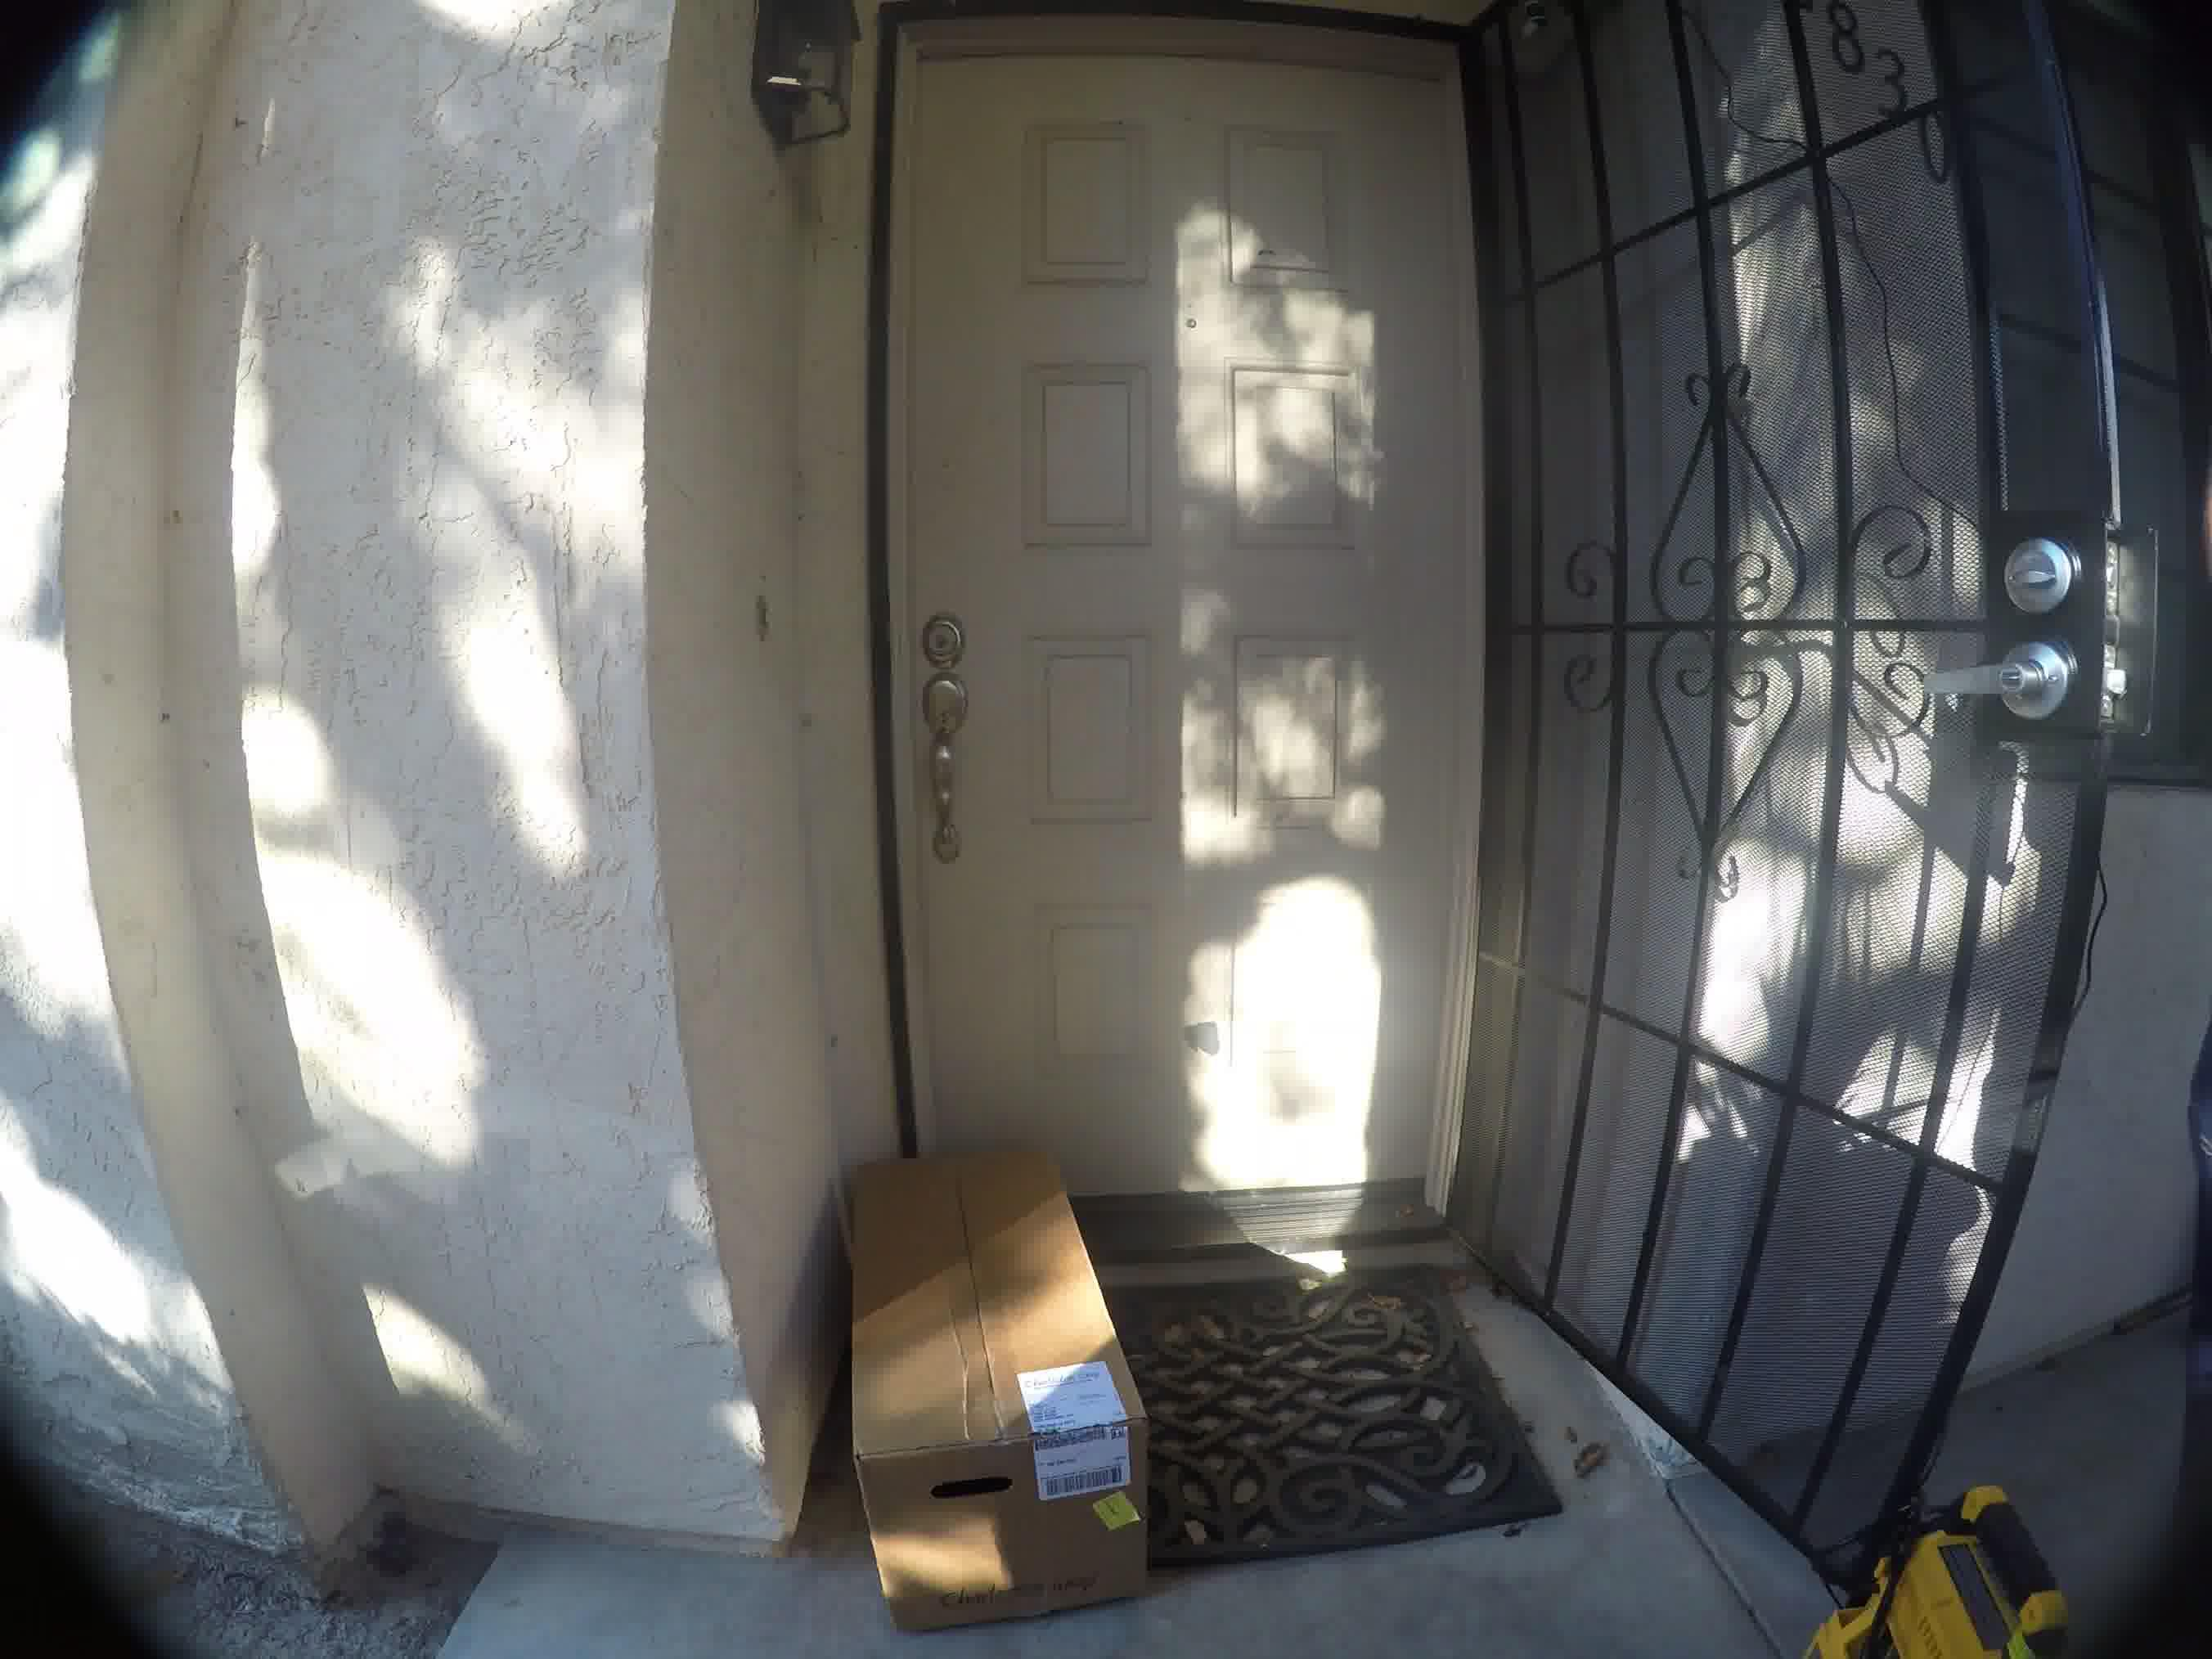box: (834, 1140, 1170, 1645)
